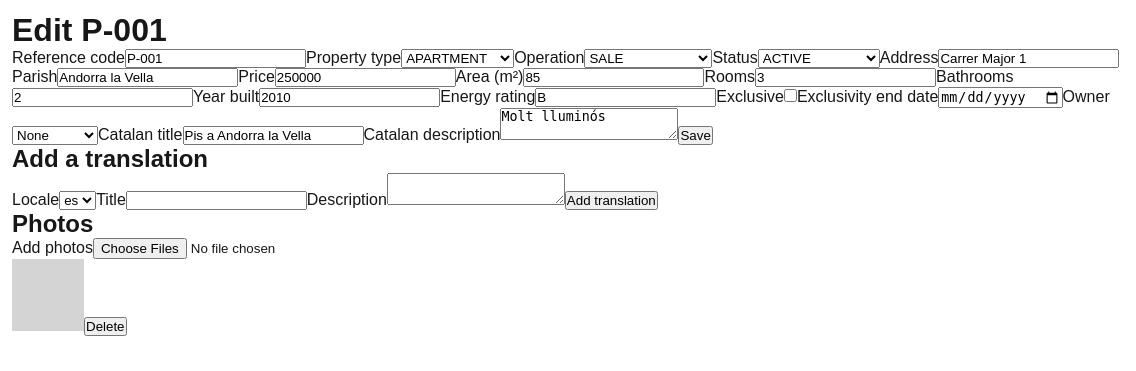
Test case: Edit listing page › includes WITHDRAWN as a status option and setting it saves successfully
Expected: the field labelled "Reference code" holds "P-001", [125, 49, 306, 68]
Select "WITHDRAWN" in the dropdown labelled "Status" at (819, 58), box [758, 49, 880, 68]
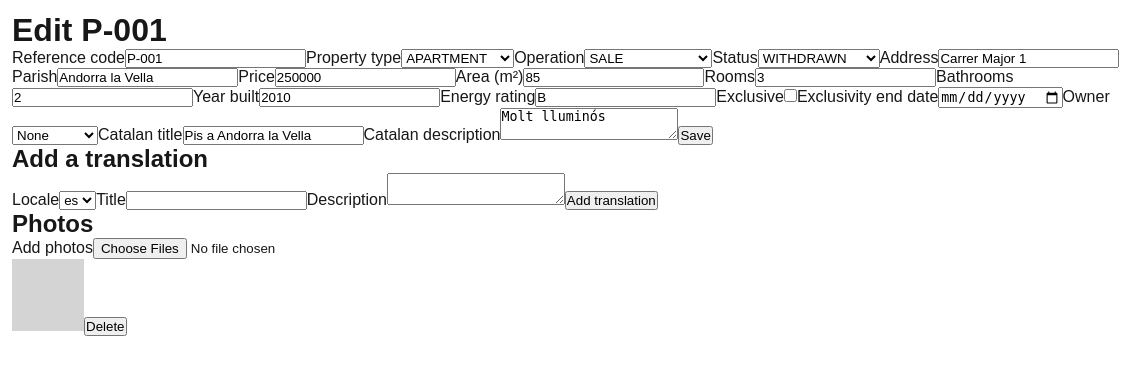
Click the button "Save" at (696, 136), box [678, 126, 713, 145]
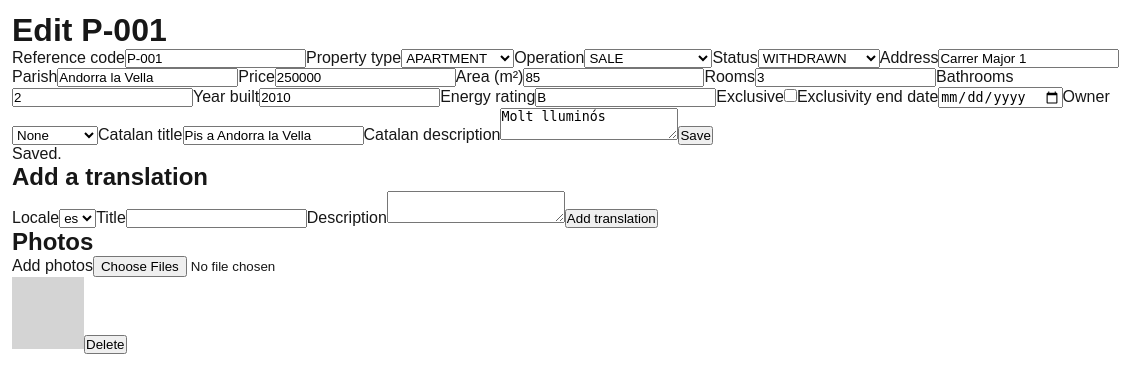
Expected: the text "Saved." is shown, [12, 145, 62, 162]
